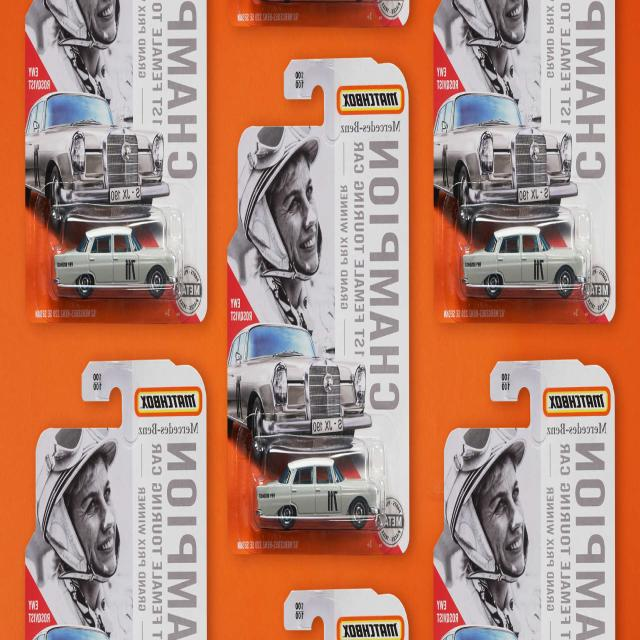Car: (25, 90, 170, 226), (227, 322, 372, 448), (433, 90, 578, 216), (254, 454, 381, 531), (52, 223, 177, 300)
